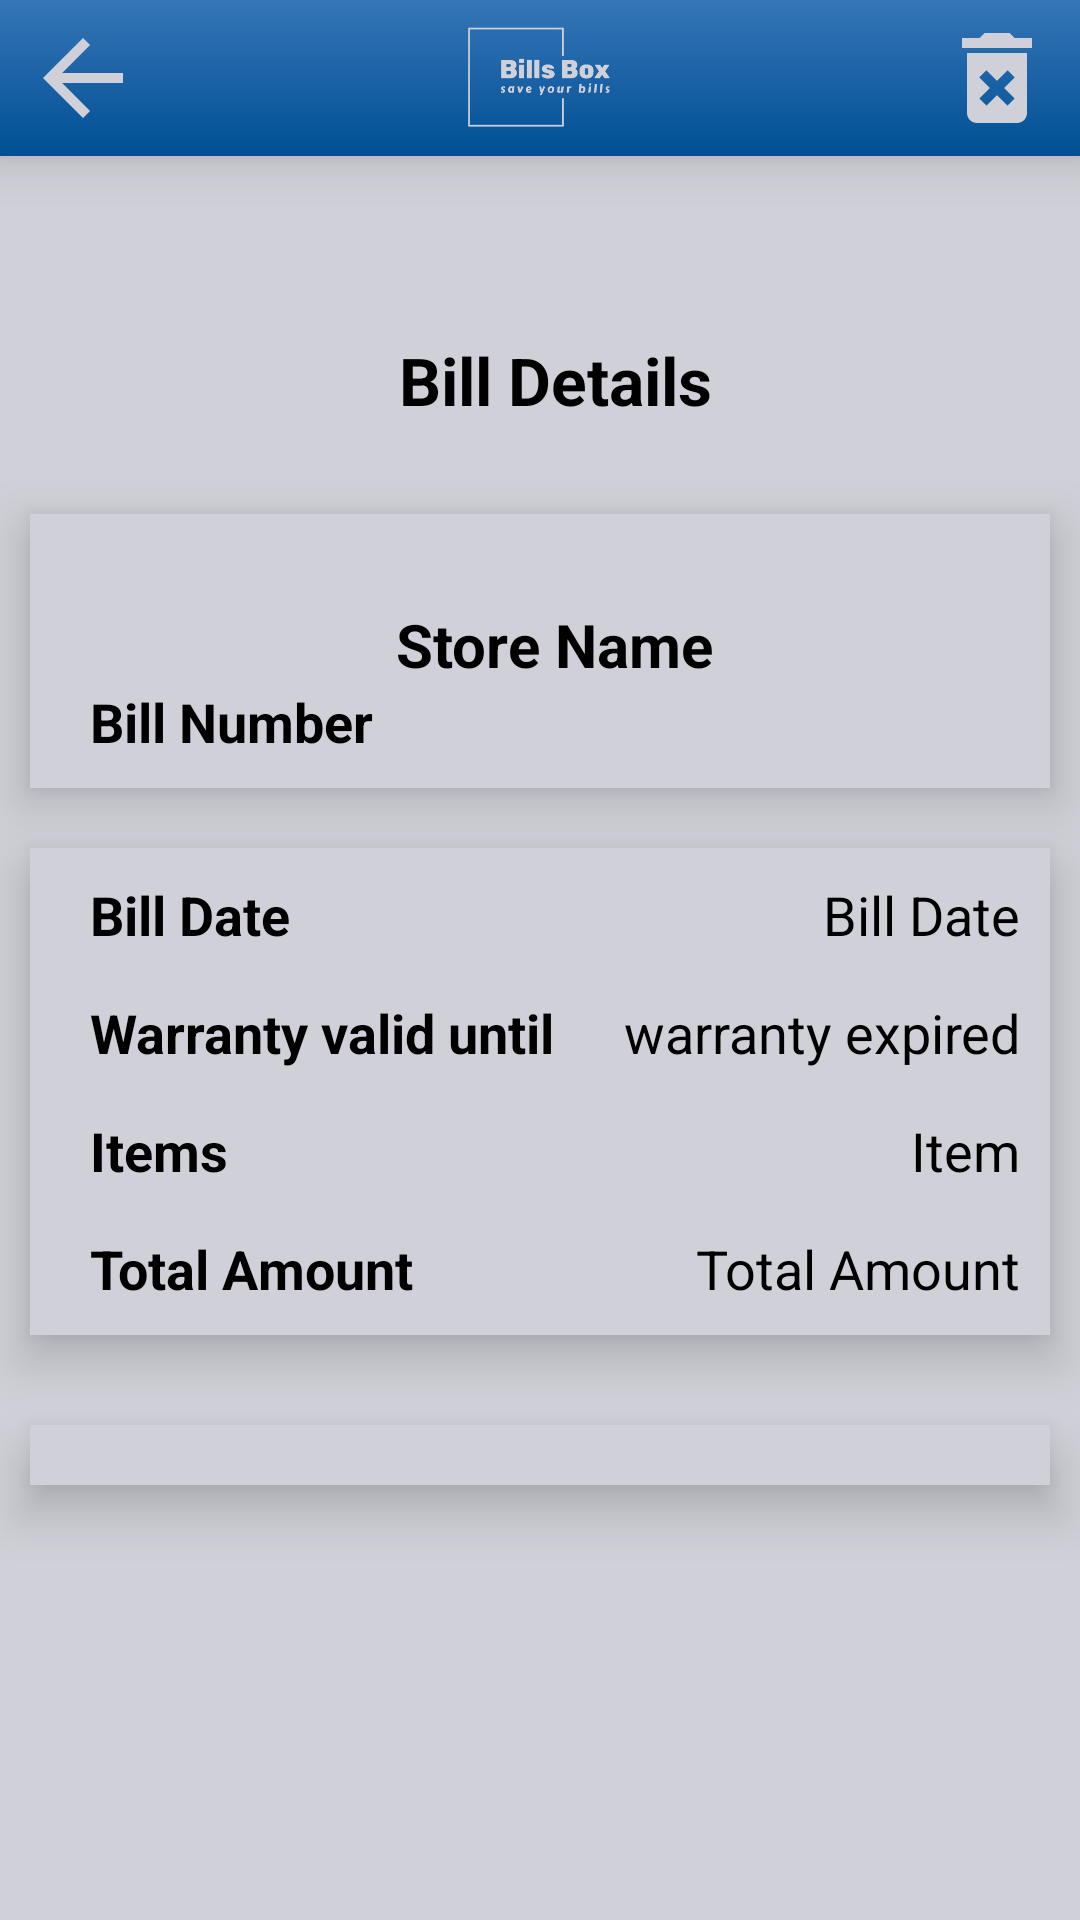

Icon click points for this 1080px x 1920px phone screenshot, format (x,y):
arrow back: (83,78)
delete forever: (996,78)
